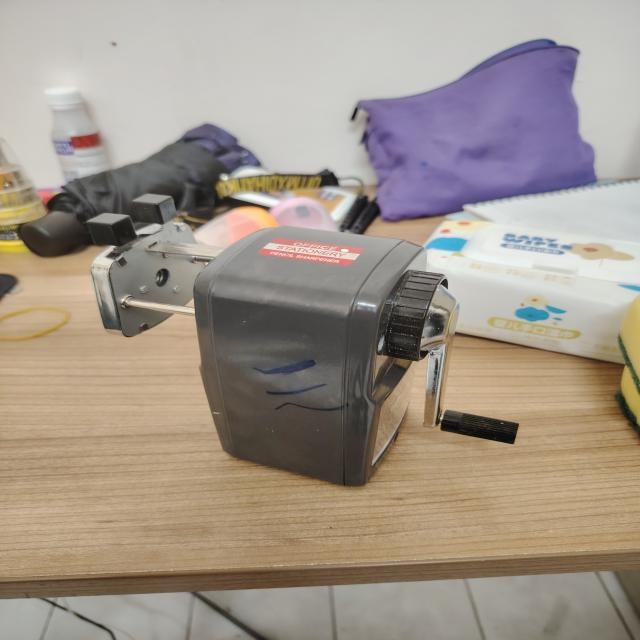sharpener: (87, 194, 518, 485), (194, 206, 278, 247), (269, 197, 337, 231)
